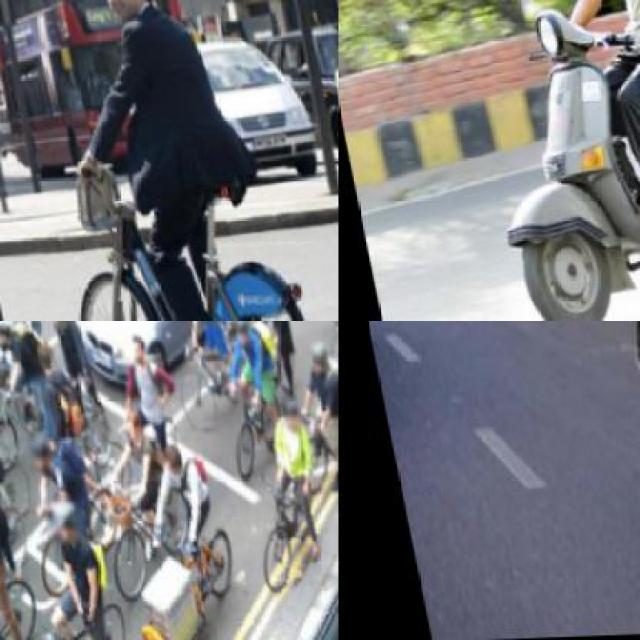With Helmet: (32, 494, 78, 549), (16, 429, 52, 482), (272, 396, 298, 438), (303, 338, 328, 378), (226, 320, 251, 357), (43, 320, 66, 332)
Without Helmet: (115, 322, 151, 373), (86, 0, 147, 18), (155, 442, 177, 478)
